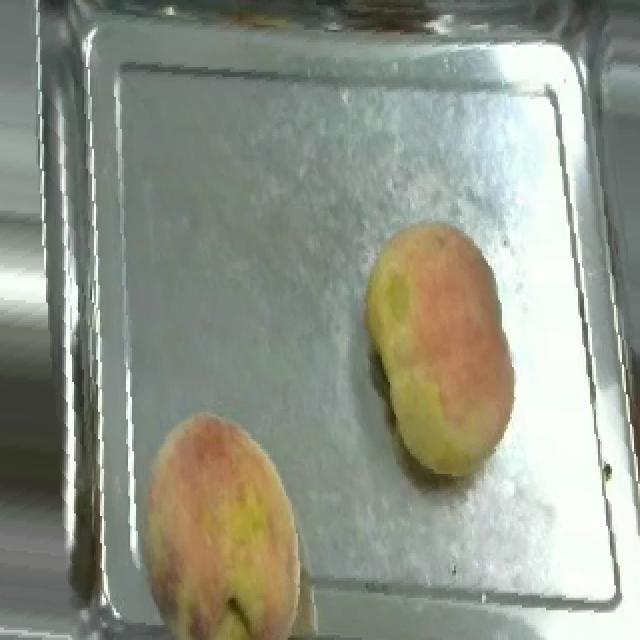Fruit: (356, 213, 532, 491), (114, 402, 316, 640)
